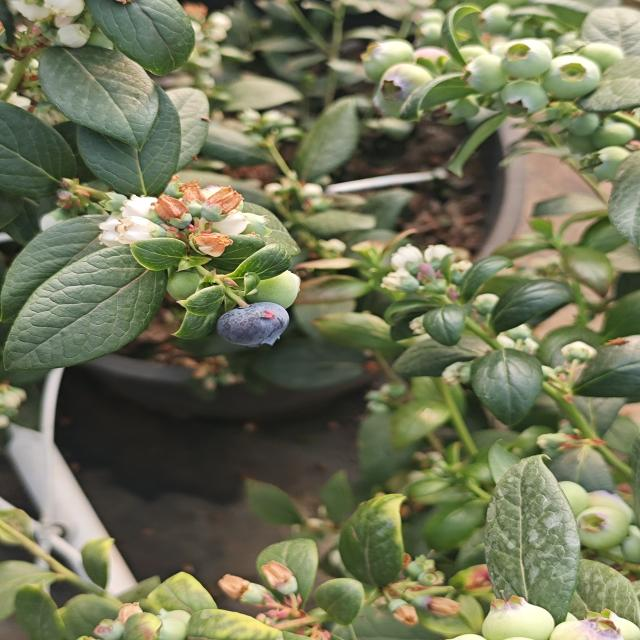ripe: (212, 300, 289, 343)
